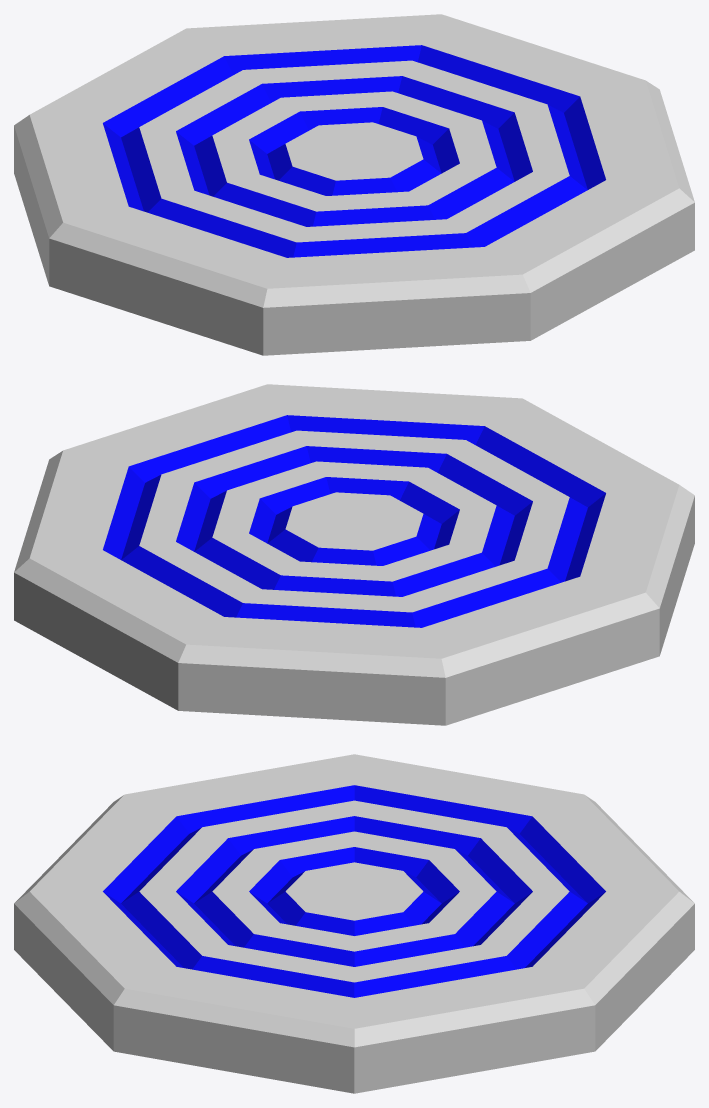
The model's file is Saltador.glb.
3 views of the same model, one above another, from view 1: azimuth 30°, elevation 25°; view 2: azimuth 150°, elevation 25°; view 3: azimuth 270°, elevation 25° (orthographic). The views are drawn at different scales.
Parts seen in each view (by area): view 1: Saltador; view 2: Saltador; view 3: Saltador.
Boxes of the visible parts, x1,y1,x2,y2 form: Saltador: [14, 14, 694, 355]; Saltador: [14, 384, 694, 725]; Saltador: [14, 754, 694, 1093].
Size of the model in its own units: 2.67 by 0.2523 by 2.67.
